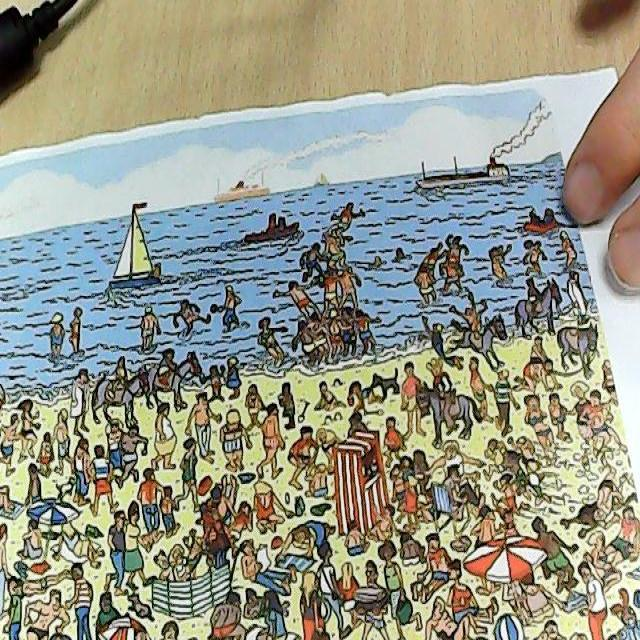waldo: (204, 499, 222, 526)
